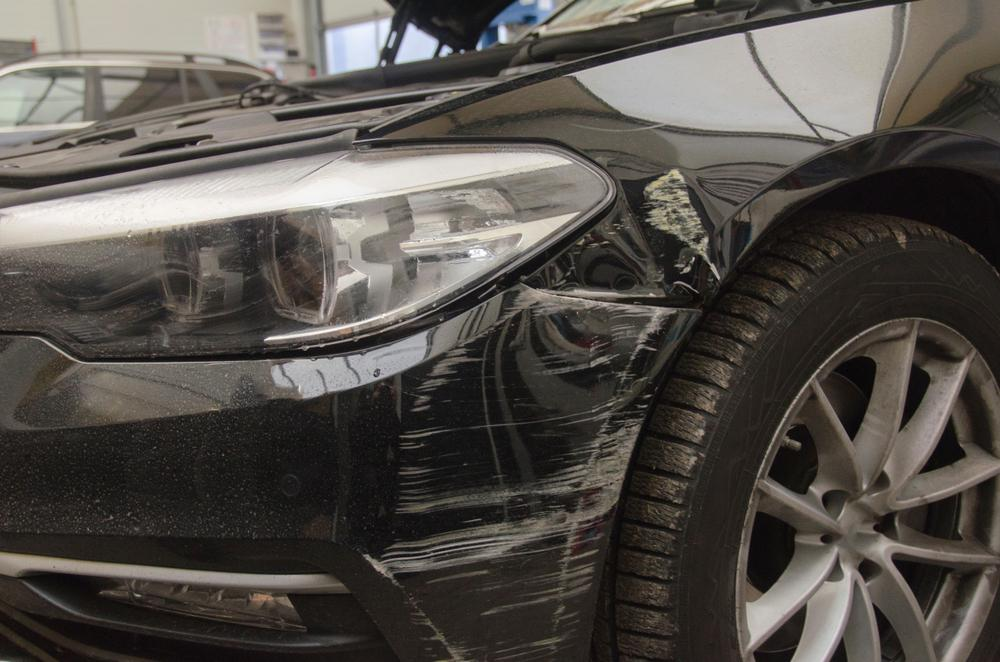scratch: (362, 287, 677, 662), (516, 160, 724, 302)
